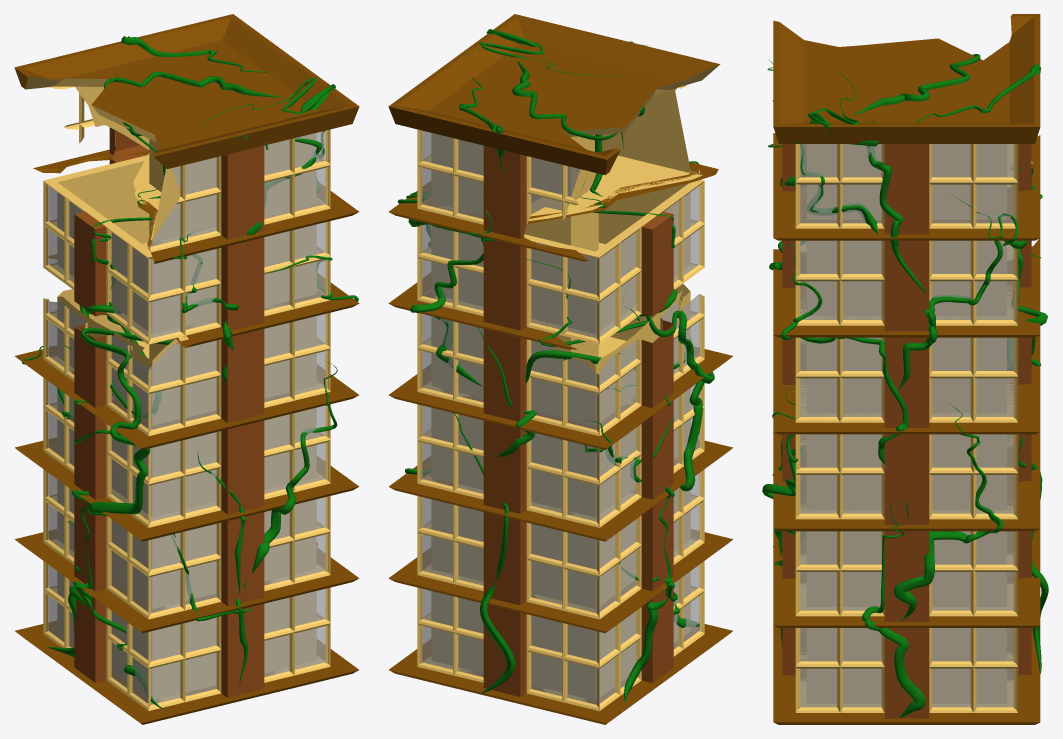
File: full-section.glb
3 views of the same model, side by side, from view 1: azimuth 30°, elevation 25°; view 2: azimuth 150°, elevation 25°; view 3: azimuth 270°, elevation 25° (orthographic). The views are drawn at different scales.
Visible parts, largest first — view 1: Building2, Roof2, Vines02, RoofColision; view 2: Building2, Roof2, Vines02, RoofColision; view 3: Building2, Roof2, Vines02, RoofColision.
Boxes of the visible parts, box(x1,y1,x2,y2) form: Building2: box(14, 86, 359, 724); Roof2: box(14, 14, 359, 169); Vines02: box(22, 36, 358, 712); RoofColision: box(22, 17, 351, 153); Building2: box(388, 85, 733, 724); Roof2: box(388, 14, 720, 175); Vines02: box(397, 29, 714, 702); RoofColision: box(396, 17, 714, 156); Building2: box(773, 133, 1040, 724); Roof2: box(773, 14, 1040, 143); Vines02: box(762, 54, 1048, 717); RoofColision: box(779, 16, 1034, 124).
Size of what is drawn, in the model's own units: 52.67 by 125 by 53.64.
